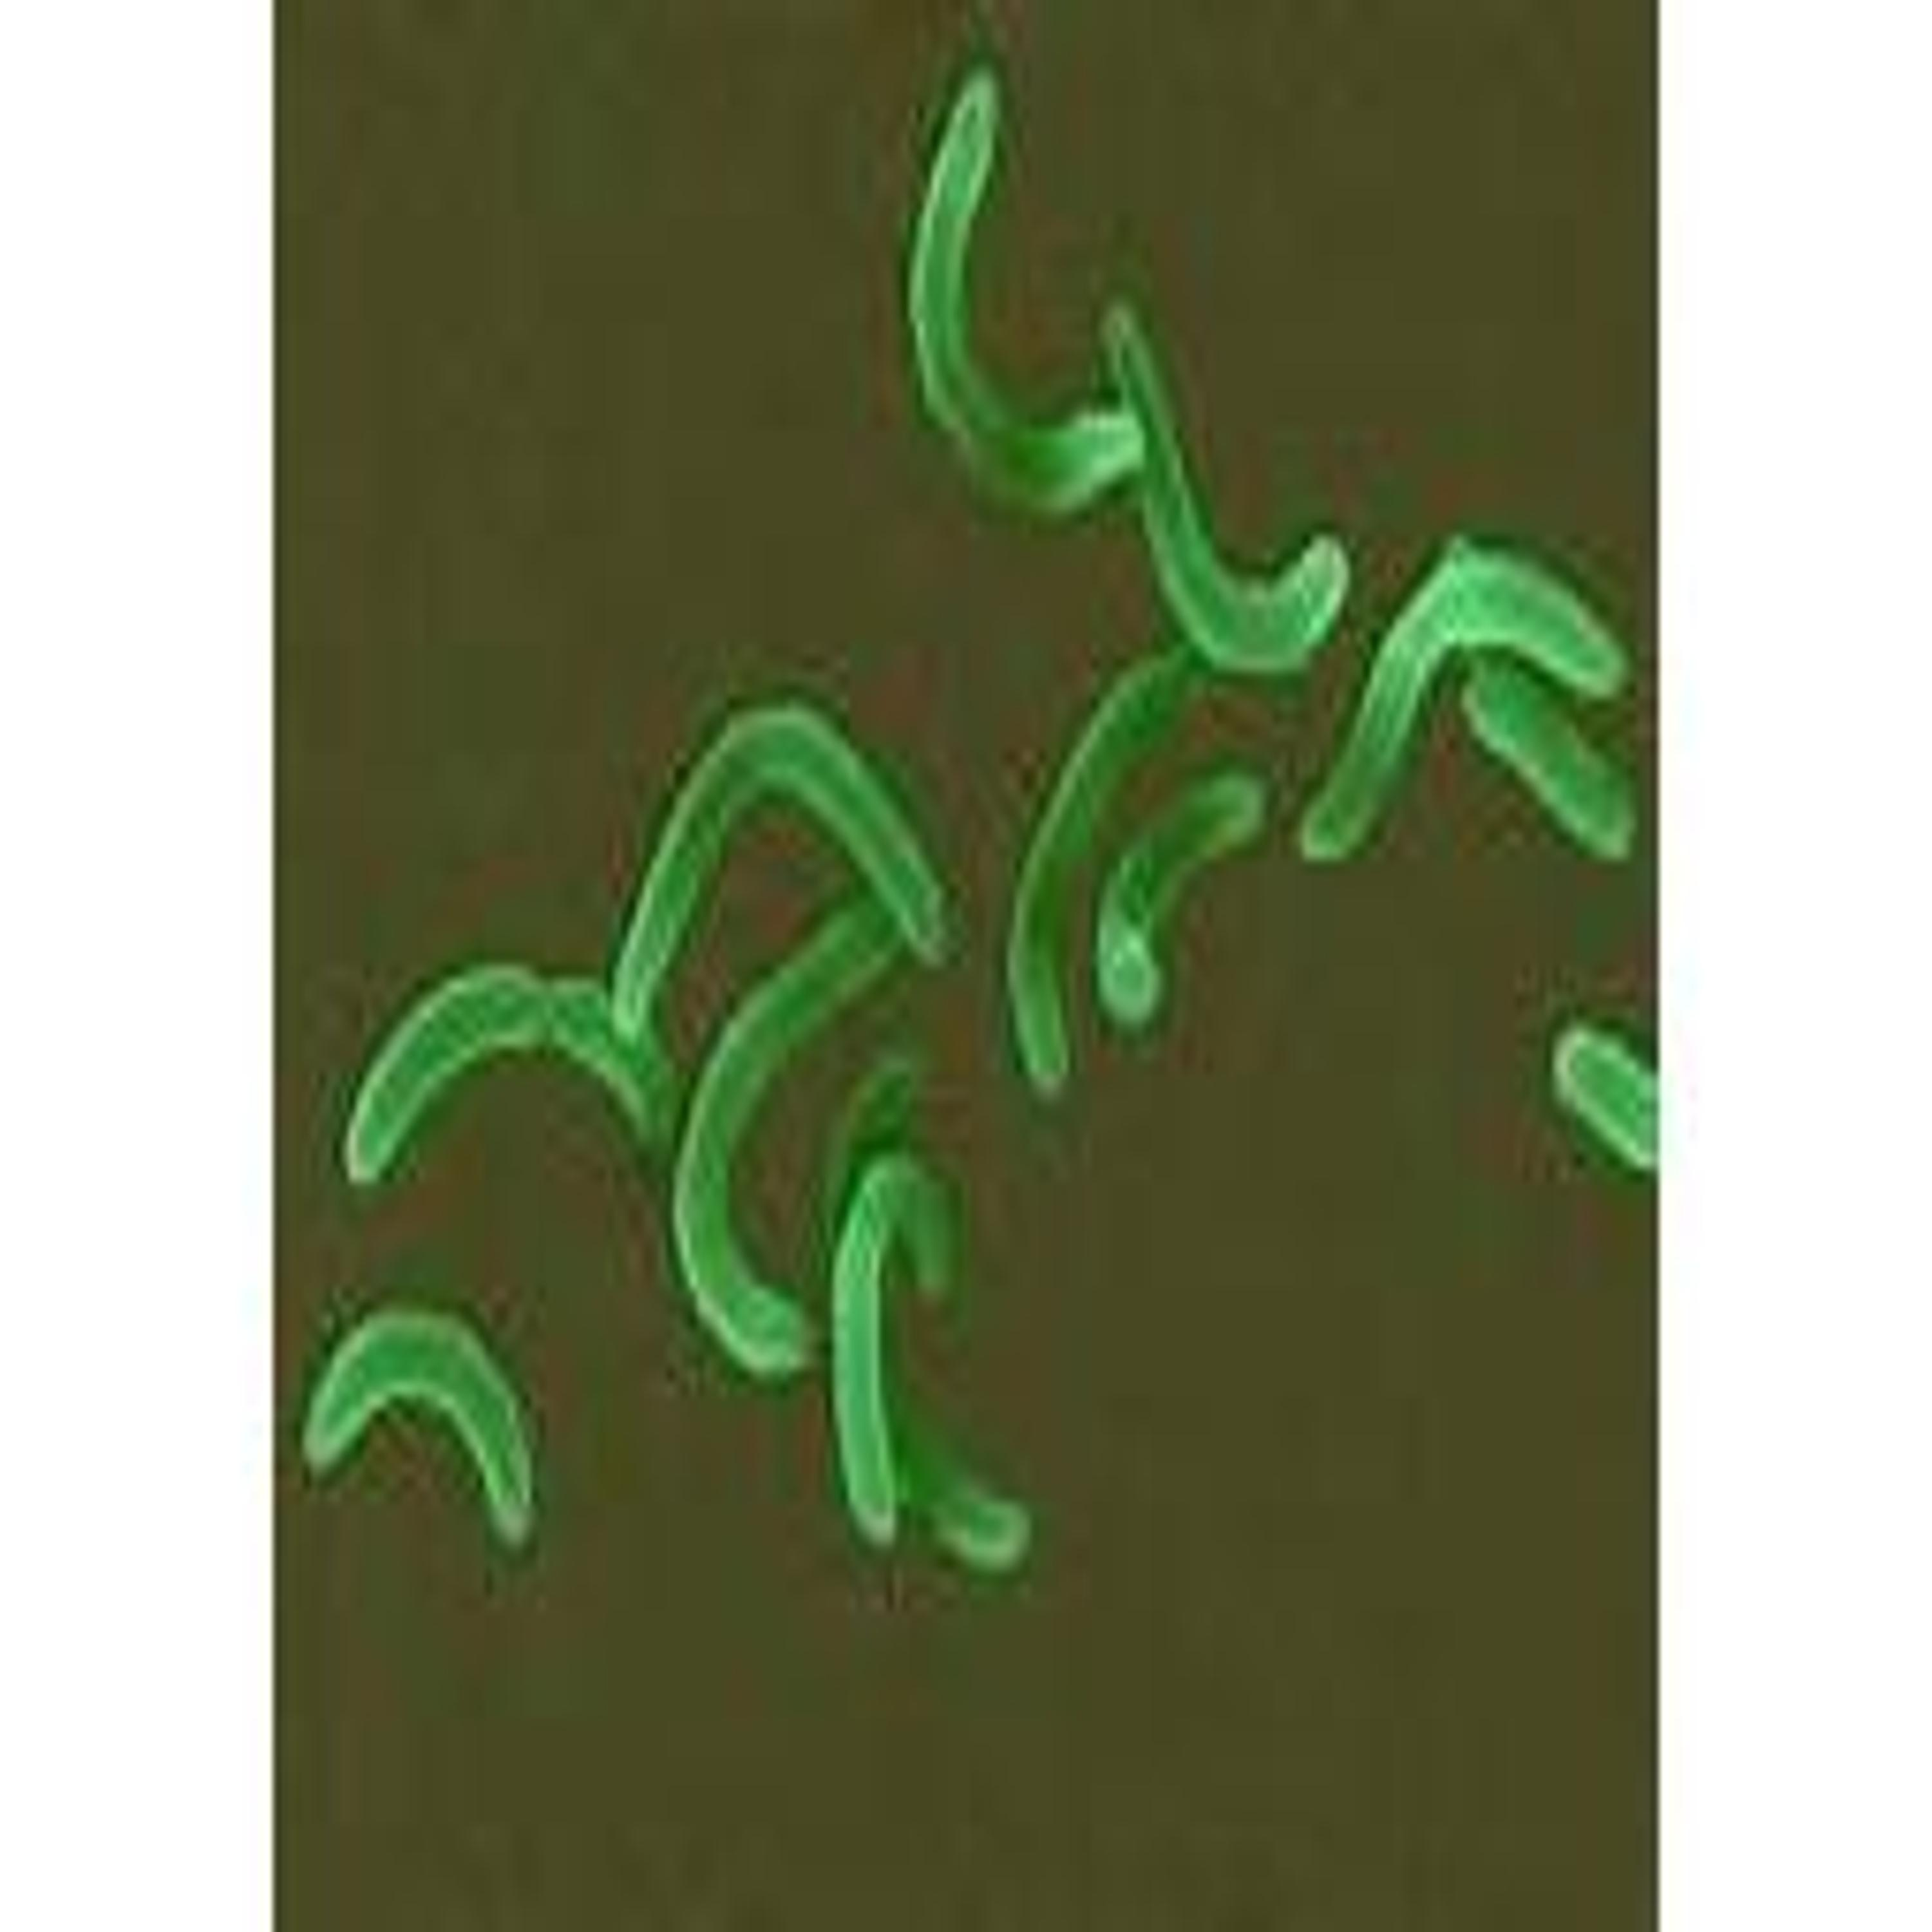Vibrio_cholerae5: (600, 692, 968, 1042), (897, 51, 1148, 533), (292, 1288, 538, 1569), (832, 1141, 961, 1573)
